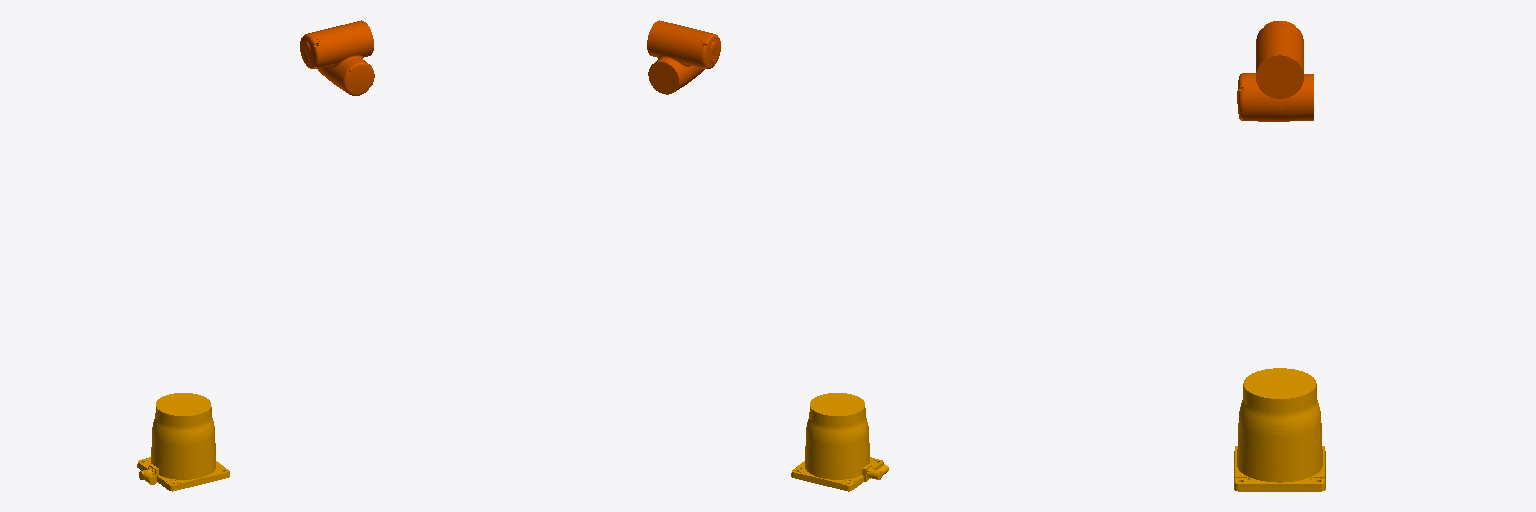
robot.urdf — CRB15000_12_127:
<?xml version="1.0" ?>
<robot name="CRB15000_12_127">

<link name="base_link">
  <inertial>
    <origin xyz="-0.0011656606666003635 -0.00011127786600189429 0.09856917133626068" rpy="0 0 0"/>
    <mass value="43.32183419472872"/>
    <inertia ixx="0.254824" iyy="0.26074" izz="0.191484" ixy="-0.000567" iyz="-0.000372" ixz="-0.003894"/>
  </inertial>
  <visual>
    <origin xyz="0 0 0" rpy="0 0 0"/>
    <geometry>
      <mesh filename="meshes/base_link.stl" scale="0.001 0.001 0.001"/>
    </geometry>
  </visual>
  <collision>
    <origin xyz="0 0 0" rpy="0 0 0"/>
    <geometry>
      <mesh filename="meshes/base_link.stl" scale="0.001 0.001 0.001"/>
    </geometry>
  </collision>
</link>

<link name="link_1">
  <inertial>
    <origin xyz="-2.953604310759913e-07 0.004410241344758071 0.135757118326414" rpy="0 0 0"/>
    <mass value="41.02562588128756"/>
    <inertia ixx="0.236926" iyy="0.184428" izz="0.192336" ixy="-1e-06" iyz="-0.003705" ixz="0.0"/>
  </inertial>
  <visual>
    <origin xyz="0.0 -0.0 -0.181677" rpy="0 0 0"/>
    <geometry>
      <mesh filename="meshes/CRB15000_12kg_127_Omnicore_rev00_LINK01_CAD_1.stl" scale="0.001 0.001 0.001"/>
    </geometry>
  </visual>
  <collision>
    <origin xyz="0.0 -0.0 -0.181677" rpy="0 0 0"/>
    <geometry>
      <mesh filename="meshes/CRB15000_12kg_127_Omnicore_rev00_LINK01_CAD_1.stl" scale="0.001 0.001 0.001"/>
    </geometry>
  </collision>
</link>

<link name="link_2">
  <inertial>
    <origin xyz="1.1298944563353409e-07 -0.05432141440967557 0.31995399683651154" rpy="0 0 0"/>
    <mass value="70.93334832681374"/>
    <inertia ixx="4.564663" iyy="4.624733" izz="0.149362" ixy="0.0" iyz="-0.067787" ixz="-2e-06"/>
  </inertial>
  <visual>
    <origin xyz="-0.0 0.09615 -0.338" rpy="0 0 0"/>
    <geometry>
      <mesh filename="meshes/CRB15000_12kg_127_Omnicore_rev00_LINK02_CAD_1.stl" scale="0.001 0.001 0.001"/>
    </geometry>
  </visual>
  <collision>
    <origin xyz="-0.0 0.09615 -0.338" rpy="0 0 0"/>
    <geometry>
      <mesh filename="meshes/CRB15000_12kg_127_Omnicore_rev00_LINK02_CAD_1.stl" scale="0.001 0.001 0.001"/>
    </geometry>
  </collision>
</link>

<link name="link_3">
  <inertial>
    <origin xyz="0.012899169793532008 0.09403704088620901 0.024906948840264675" rpy="0 0 0"/>
    <mass value="26.381731962312585"/>
    <inertia ixx="0.135784" iyy="0.109626" izz="0.102204" ixy="0.002633" iyz="0.005085" ixz="-0.024959"/>
  </inertial>
  <visual>
    <origin xyz="-0.0 0.0863 -1.045" rpy="0 0 0"/>
    <geometry>
      <mesh filename="meshes/CRB15000_12kg_127_Omnicore_rev00_LINK03_CAD_1.stl" scale="0.001 0.001 0.001"/>
    </geometry>
  </visual>
  <collision>
    <origin xyz="-0.0 0.0863 -1.045" rpy="0 0 0"/>
    <geometry>
      <mesh filename="meshes/CRB15000_12kg_127_Omnicore_rev00_LINK03_CAD_1.stl" scale="0.001 0.001 0.001"/>
    </geometry>
  </collision>
</link>

<link name="link_4">
  <inertial>
    <origin xyz="0.19839211176894214 0.05675429813708446 5.228426895875771e-07" rpy="0 0 0"/>
    <mass value="27.702812566356673"/>
    <inertia ixx="0.097386" iyy="0.497655" izz="0.555153" ixy="-0.13931" iyz="1e-06" ixz="6e-06"/>
  </inertial>
  <visual>
    <origin xyz="-0.097 0.0 -1.155" rpy="0 0 0"/>
    <geometry>
      <mesh filename="meshes/CRB15000_12kg_127_Omnicore_rev00_LINK04_CAD_1.stl" scale="0.001 0.001 0.001"/>
    </geometry>
  </visual>
  <collision>
    <origin xyz="-0.097 0.0 -1.155" rpy="0 0 0"/>
    <geometry>
      <mesh filename="meshes/CRB15000_12kg_127_Omnicore_rev00_LINK04_CAD_1.stl" scale="0.001 0.001 0.001"/>
    </geometry>
  </collision>
</link>

<link name="link_5">
  <inertial>
    <origin xyz="-0.014714796269106878 -0.07856678438355963 0.042754343919074955" rpy="0 0 0"/>
    <mass value="23.63754989165508"/>
    <inertia ixx="0.08996" iyy="0.106457" izz="0.085163" ixy="0.001414" iyz="-0.004125" ixz="0.012972"/>
  </inertial>
  <visual>
    <origin xyz="-0.534 -0.0745 -1.155" rpy="0 0 0"/>
    <geometry>
      <mesh filename="meshes/CRB15000_12kg_127_Omnicore_rev00_LINK05_CAD_1.stl" scale="0.001 0.001 0.001"/>
    </geometry>
  </visual>
  <collision>
    <origin xyz="-0.534 -0.0745 -1.155" rpy="0 0 0"/>
    <geometry>
      <mesh filename="meshes/CRB15000_12kg_127_Omnicore_rev00_LINK05_CAD_1.stl" scale="0.001 0.001 0.001"/>
    </geometry>
  </collision>
</link>

<link name="link_6">
  <inertial>
    <origin xyz="0.012650716328436618 0.00023981671877066696 -0.00034191150328566344" rpy="0 0 0"/>
    <mass value="1.1500367505463056"/>
    <inertia ixx="0.001012" iyy="0.000597" izz="0.000601" ixy="-1e-06" iyz="-5e-06" ixz="1e-06"/>
  </inertial>
  <visual>
    <origin xyz="-0.6025 0.0 -1.235" rpy="0 0 0"/>
    <geometry>
      <mesh filename="meshes/CRB15000_12kg_127_Omnicore_rev00_LINK06_CAD_1.stl" scale="0.001 0.001 0.001"/>
    </geometry>
  </visual>
  <collision>
    <origin xyz="-0.6025 0.0 -1.235" rpy="0 0 0"/>
    <geometry>
      <mesh filename="meshes/CRB15000_12kg_127_Omnicore_rev00_LINK06_CAD_1.stl" scale="0.001 0.001 0.001"/>
    </geometry>
  </collision>
</link>

<joint name="joint_1" type="revolute">
  <origin xyz="0.0 0.0 0.181677" rpy="0 0 0"/>
  <parent link="base_link"/>
  <child link="link_1"/>
  <axis xyz="-0.0 0.0 1.0"/>
  <limit lower="-4.712" upper="4.712" effort="390" velocity="2.094"/>
</joint>

<joint name="joint_2" type="revolute">
  <origin xyz="0.0 -0.09615 0.156323" rpy="0 0 0"/>
  <parent link="link_1"/>
  <child link="link_2"/>
  <axis xyz="0.0 -1.0 -0.0"/>
  <limit lower="-3.14159" upper="3.14159" effort="400" velocity="2.094"/>
</joint>

<joint name="joint_3" type="revolute">
  <origin xyz="0.0 0.00985 0.707" rpy="0 0 0"/>
  <parent link="link_2"/>
  <child link="link_3"/>
  <axis xyz="0.0 -1.0 -0.0"/>
  <limit lower="-3.927" upper="1.483" effort="160" velocity="2.181"/>
</joint>

<joint name="joint_4" type="revolute">
  <origin xyz="0.097 0.0863 0.11" rpy="0 0 0"/>
  <parent link="link_3"/>
  <child link="link_4"/>
  <axis xyz="-1.0 0.0 -0.0"/>
  <limit lower="-3.14159" upper="3.14159" effort="60" velocity="3.491"/>
</joint>

<joint name="joint_5" type="revolute">
  <origin xyz="0.437 0.0745 0.0" rpy="0 0 0"/>
  <parent link="link_4"/>
  <child link="link_5"/>
  <axis xyz="0.0 -1.0 0.0"/>
  <limit lower="-3.14159" upper="3.14159" effort="60" velocity="3.491"/>
</joint>

<joint name="joint_6" type="revolute">
  <origin xyz="0.0685 -0.0745 0.08" rpy="0 0 0"/>
  <parent link="link_5"/>
  <child link="link_6"/>
  <axis xyz="-1.0 0.0 -0.0"/>
  <limit lower="-4.712" upper="4.712" effort="60" velocity="3.491"/>
</joint>

<link name="flange">
  <inertial>
    <origin xyz="0 0 0" rpy="0 0 0"/>
    <mass value="0.1"/>
    <inertia ixx="0.0001" iyy="0.0001" izz="0.0001" ixy="0" iyz="0" ixz="0"/>
  </inertial>
</link>

<link name="tool0">
  <inertial>
    <origin xyz="0 0 0" rpy="0 0 0"/>
    <mass value="0.01"/>
    <inertia ixx="0.00001" iyy="0.00001" izz="0.00001" ixy="0" iyz="0" ixz="0"/>
  </inertial>
</link>

<joint name="joint_flange" type="fixed">
  <origin xyz="0 0 0" rpy="0 1.57 0"/>
  <parent link="link_6"/>
  <child link="flange"/>
</joint>

<joint name="joint_tool0" type="fixed">
  <origin xyz="0 0 0" rpy="0 0 0"/>
  <parent link="flange"/>
  <child link="tool0"/>
</joint>

</robot>

--- Render facts (derived) ---
3 views of the same robot in one strip: view 1: azimuth 30°, elevation 25°; view 2: azimuth 150°, elevation 25°; view 3: azimuth 270°, elevation 25° (orthographic).
Model CRB15000_12_127 with 9 links and 8 joints (6 revolute, 2 fixed), rooted at base_link, posed every joint at zero.
Visible links, largest first — view 1: base_link, link_5; view 2: base_link, link_5; view 3: base_link, link_5.
Boxes of the visible links, x1=… form: base_link: x1=137, y1=393, x2=229, y2=491; link_5: x1=300, y1=20, x2=374, y2=95; base_link: x1=791, y1=393, x2=888, y2=491; link_5: x1=647, y1=20, x2=720, y2=94; base_link: x1=1234, y1=368, x2=1325, y2=491; link_5: x1=1237, y1=21, x2=1313, y2=121.
Bounding box of the posed robot: 0.7438 × 0.2 × 1.29 m (x, y, z).
2 mesh visuals loaded from 7 distinct referenced files (2 binary STL); not drawn: 5 (reference not matched to a file when rendering).